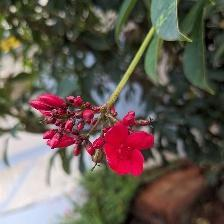jatropha: (102, 122, 156, 180)
